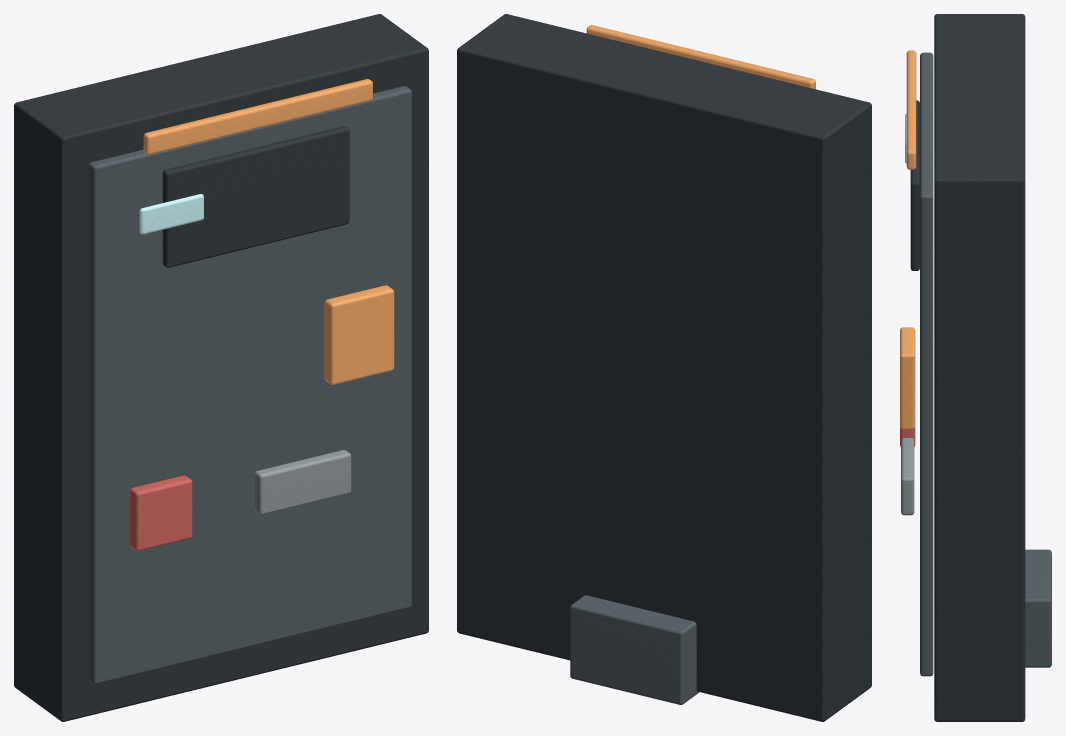
Rendered from IsolationChamberPanel.glb.
The picture shows the model from 3 angles, left to right: view 1: azimuth 30°, elevation 25°; view 2: azimuth 150°, elevation 25°; view 3: azimuth 270°, elevation 25°; orthographic projection. The views are drawn at different scales.
Visible parts, largest first — view 1: IsolationChamberPanel_Mesh; view 2: IsolationChamberPanel_Mesh; view 3: IsolationChamberPanel_Mesh.
Boxes of the visible parts, x1,y1,x2,y2 form: IsolationChamberPanel_Mesh: (14, 14, 428, 721); IsolationChamberPanel_Mesh: (457, 14, 871, 721); IsolationChamberPanel_Mesh: (900, 14, 1051, 721).
Size of the model in its own units: 1.04 by 1.59 by 0.4.
6 materials, 6 textured.
